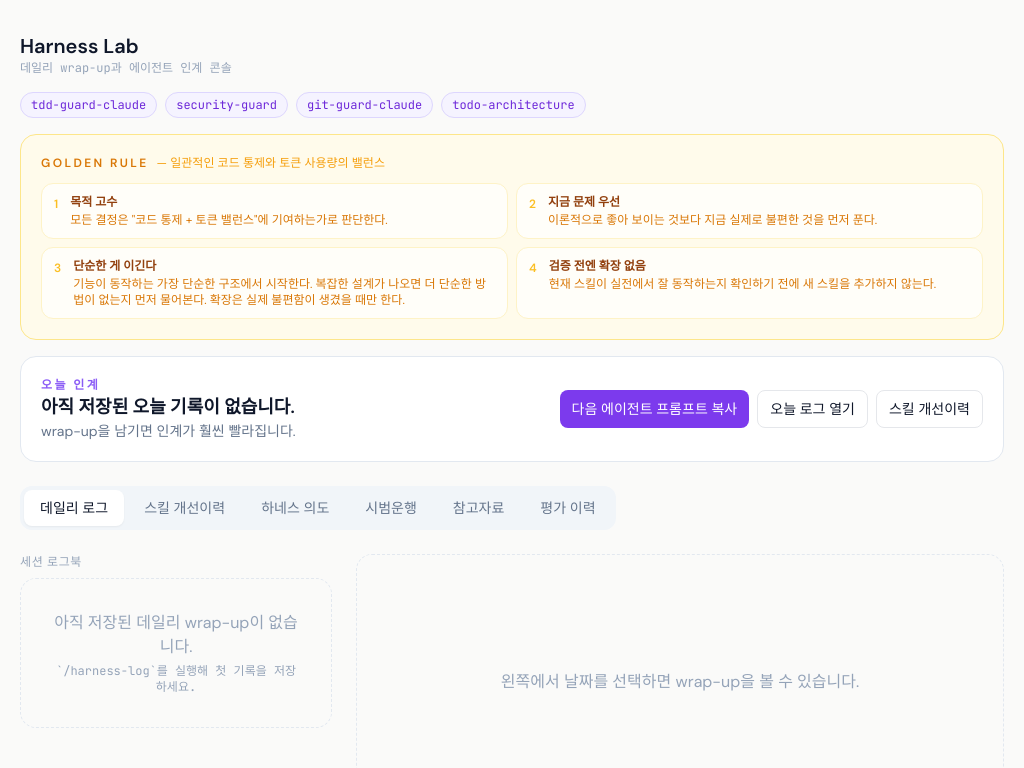
Test: HarnessLabPage › 평가 이력 탭 › 평가 없으면 빈 상태 메시지가 표시된다
Click the button "평가 이력" at x=568, y=508, box [524, 490, 612, 526]
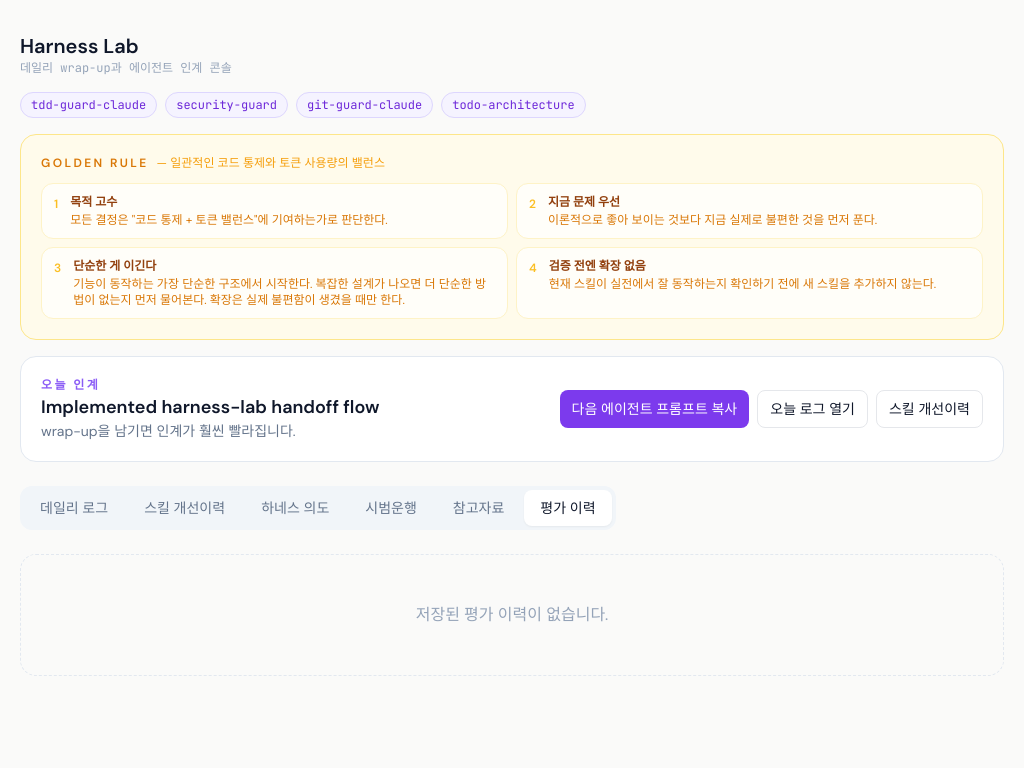
expect the text "저장된 평가 이력이 없습니다." is shown: met, box [416, 604, 608, 625]
